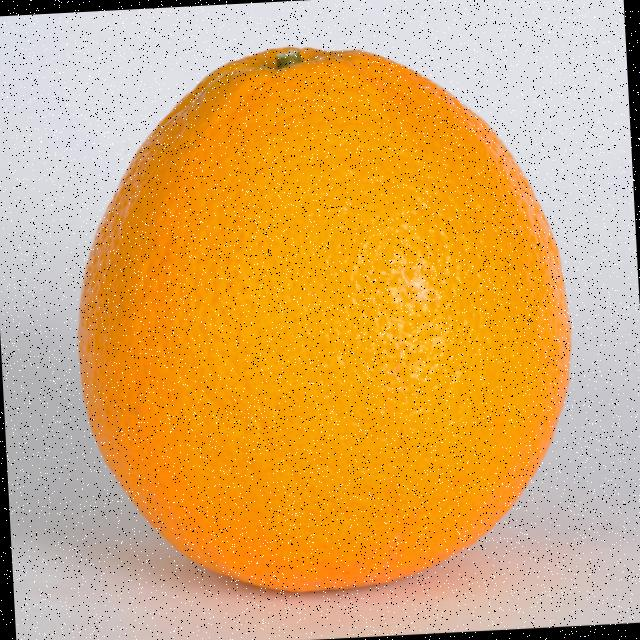orange: (78, 48, 571, 592)
